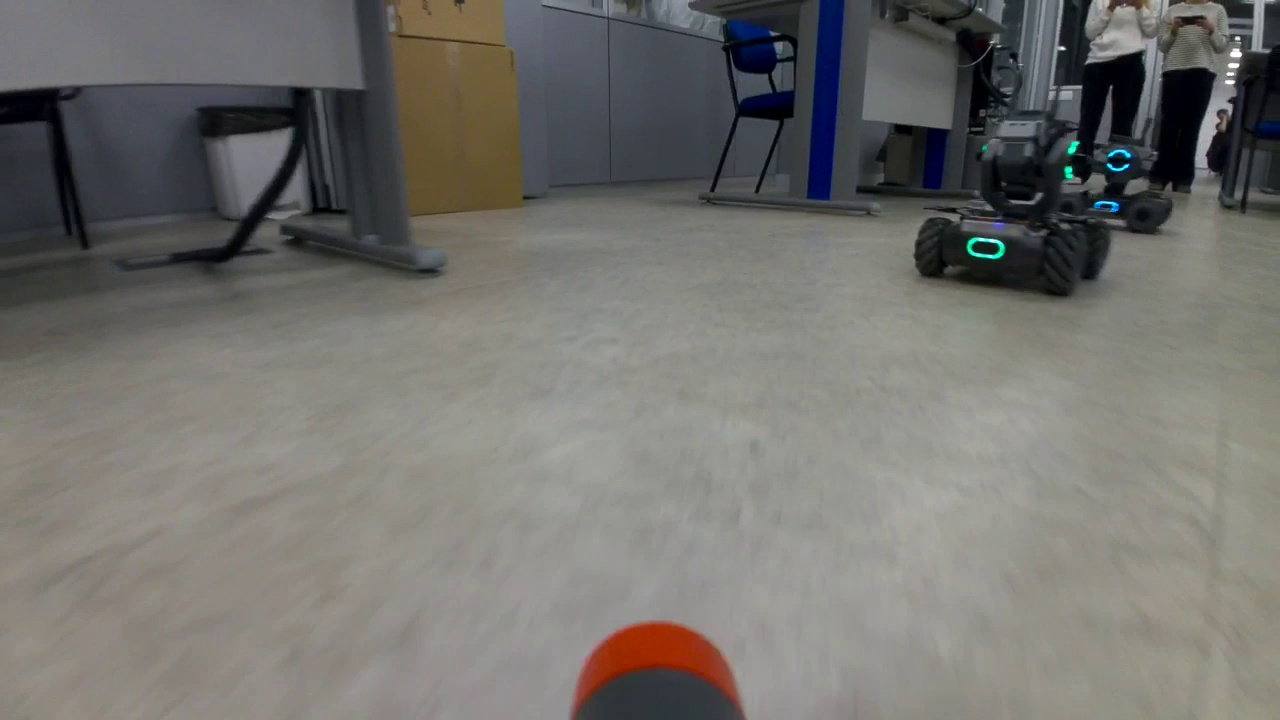robot: (912, 111, 1109, 301), (1067, 140, 1174, 238)
